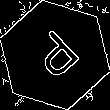P_SE: (24, 24, 86, 86)
